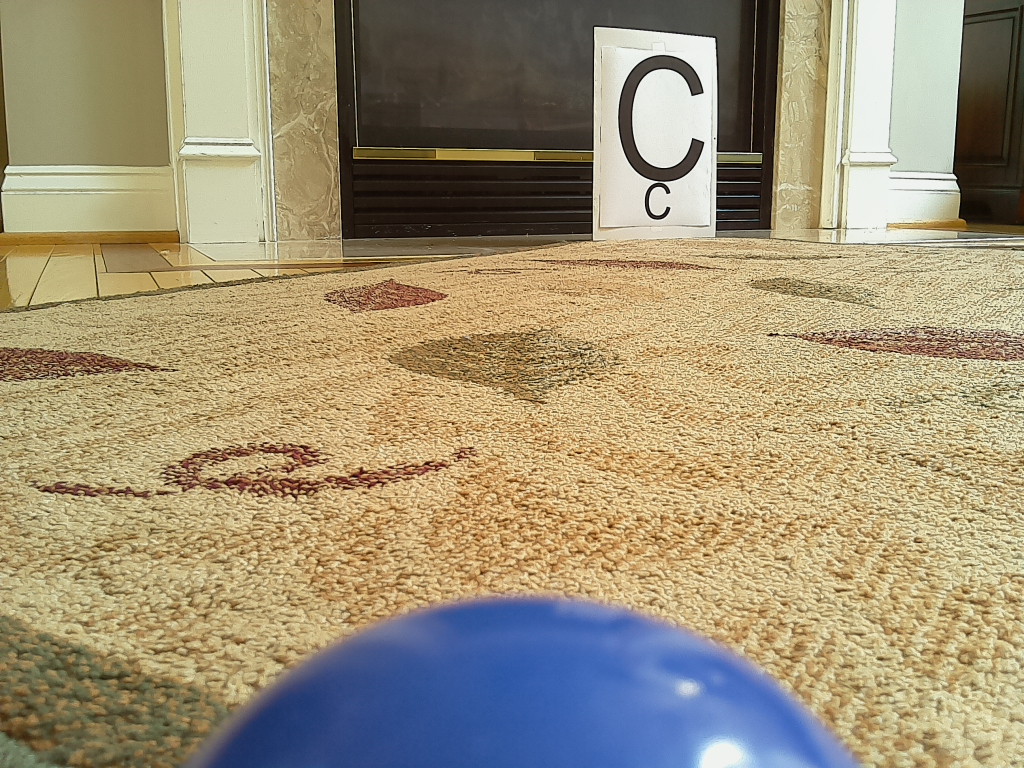letter: (617, 56, 703, 183)
